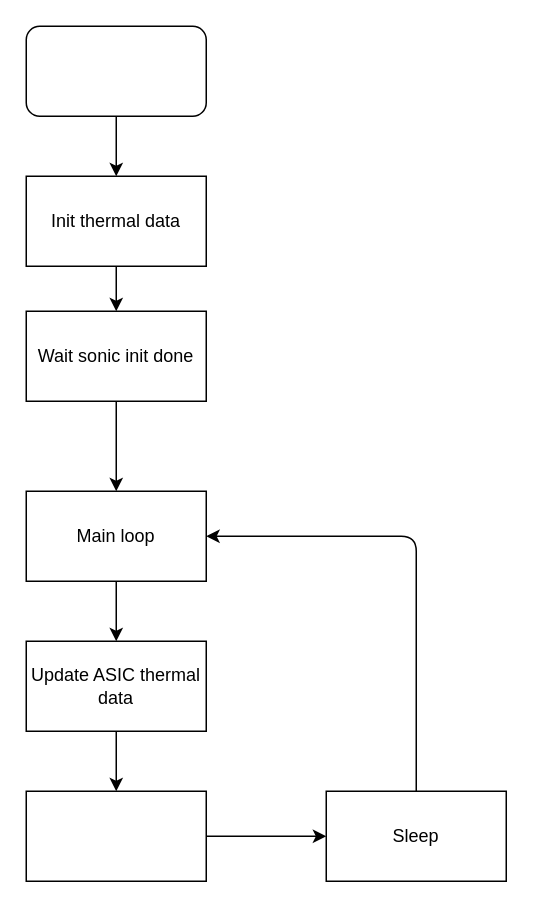
Image size: 533x908. Some labels were removed from this diagram. Here are the shapes that lost their labels. From the top down, the centre of each, then its label:
the point at 115,70: Start
the point at 115,835: Update SFP thermal data
